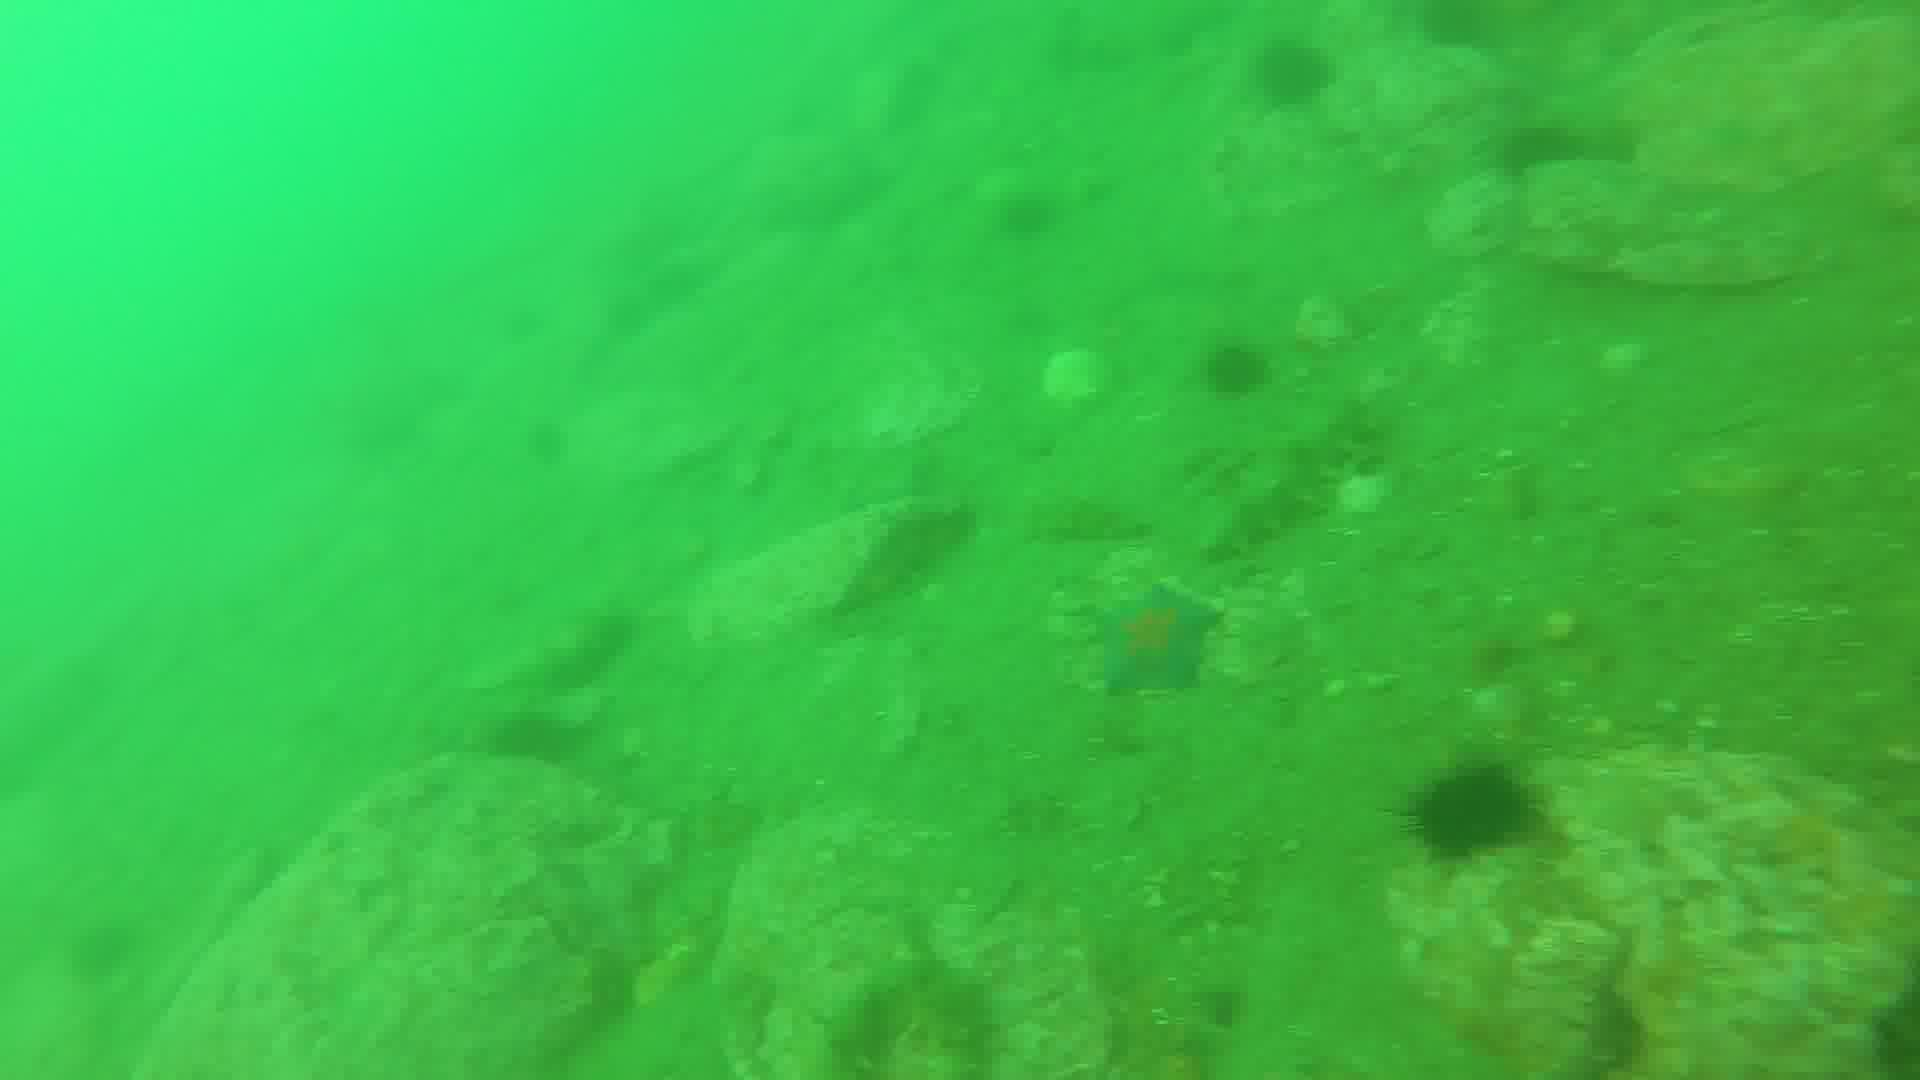echinus: (1403, 765, 1542, 861), (1253, 46, 1329, 119), (1518, 115, 1582, 196), (1215, 342, 1261, 396)
holothurian: (1211, 401, 1395, 568), (989, 497, 1156, 541)
starfish: (1097, 582, 1218, 694)
